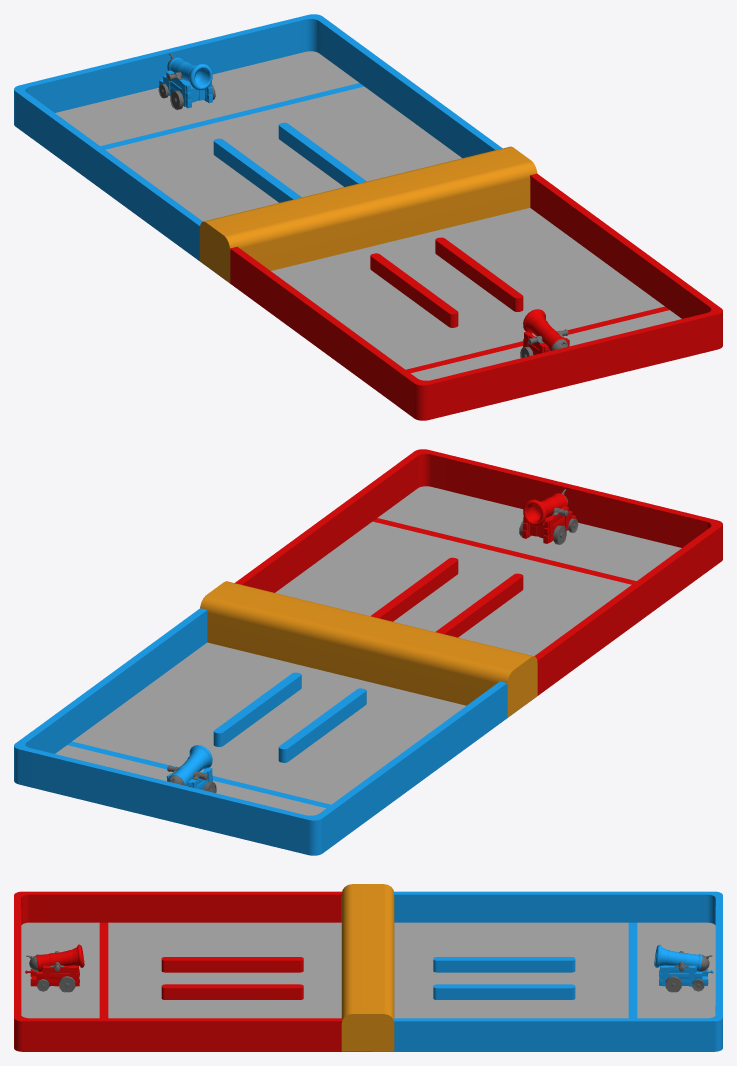
The picture shows the model from 3 angles, top to bottom: view 1: azimuth 30°, elevation 25°; view 2: azimuth 150°, elevation 25°; view 3: azimuth 270°, elevation 25°; orthographic projection. The views are drawn at different scales.
Visible parts, largest first — view 1: pPlane1 (×2), pCube4, pCube3 (×2), polySurface185 (×2), polySurface184 (×2), polySurface151 (×2), polySurface187 (×2), polySurface186 (×2), polySurface152 (×2), polySurface160 (×2); view 2: pPlane1 (×2), pCube4, pCube3 (×2), polySurface184 (×2), polySurface185 (×2), polySurface152 (×2), polySurface186 (×2), polySurface187 (×2), polySurface151 (×2), polySurface160 (×2); view 3: pPlane1 (×2), polySurface185 (×2), polySurface184 (×2), pCube4, polySurface187 (×2), polySurface186 (×2), polySurface151 (×2), polySurface152 (×2), pCube3 (×2), polySurface160 (×2).
Boxes of the visible parts, bbox=[...] form: pPlane1 (×2): bbox=[55, 51, 681, 380]; pCube4: bbox=[199, 146, 537, 282]; pCube3 (×2): bbox=[46, 21, 690, 413]; polySurface185 (×2): bbox=[31, 101, 704, 318]; polySurface184 (×2): bbox=[219, 28, 502, 406]; polySurface151 (×2): bbox=[281, 14, 455, 420]; polySurface187 (×2): bbox=[213, 138, 523, 311]; polySurface186 (×2): bbox=[278, 122, 458, 327]; polySurface152 (×2): bbox=[14, 79, 722, 355]; polySurface160 (×2): bbox=[168, 57, 567, 350]; pPlane1 (×2): bbox=[55, 486, 681, 815]; pCube4: bbox=[200, 581, 537, 717]; pCube3 (×2): bbox=[46, 456, 689, 848]; polySurface184 (×2): bbox=[32, 536, 705, 753]; polySurface185 (×2): bbox=[235, 463, 523, 841]; polySurface152 (×2): bbox=[281, 449, 455, 855]; polySurface186 (×2): bbox=[213, 573, 523, 746]; polySurface187 (×2): bbox=[278, 557, 458, 762]; polySurface151 (×2): bbox=[14, 513, 722, 790]; polySurface160 (×2): bbox=[168, 493, 567, 785]; pPlane1 (×2): bbox=[21, 922, 715, 1018]; polySurface185 (×2): bbox=[50, 891, 686, 1051]; polySurface184 (×2): bbox=[50, 891, 686, 1051]; pCube4: bbox=[341, 884, 394, 1051]; polySurface187 (×2): bbox=[161, 957, 575, 999]; polySurface186 (×2): bbox=[161, 957, 575, 999]; polySurface151 (×2): bbox=[14, 891, 722, 1051]; polySurface152 (×2): bbox=[14, 891, 722, 1051]; pCube3 (×2): bbox=[14, 906, 722, 1014]; polySurface160 (×2): bbox=[36, 944, 702, 971].
Size of the model in its own units: 42.05 by 6.26 by 96.96.
